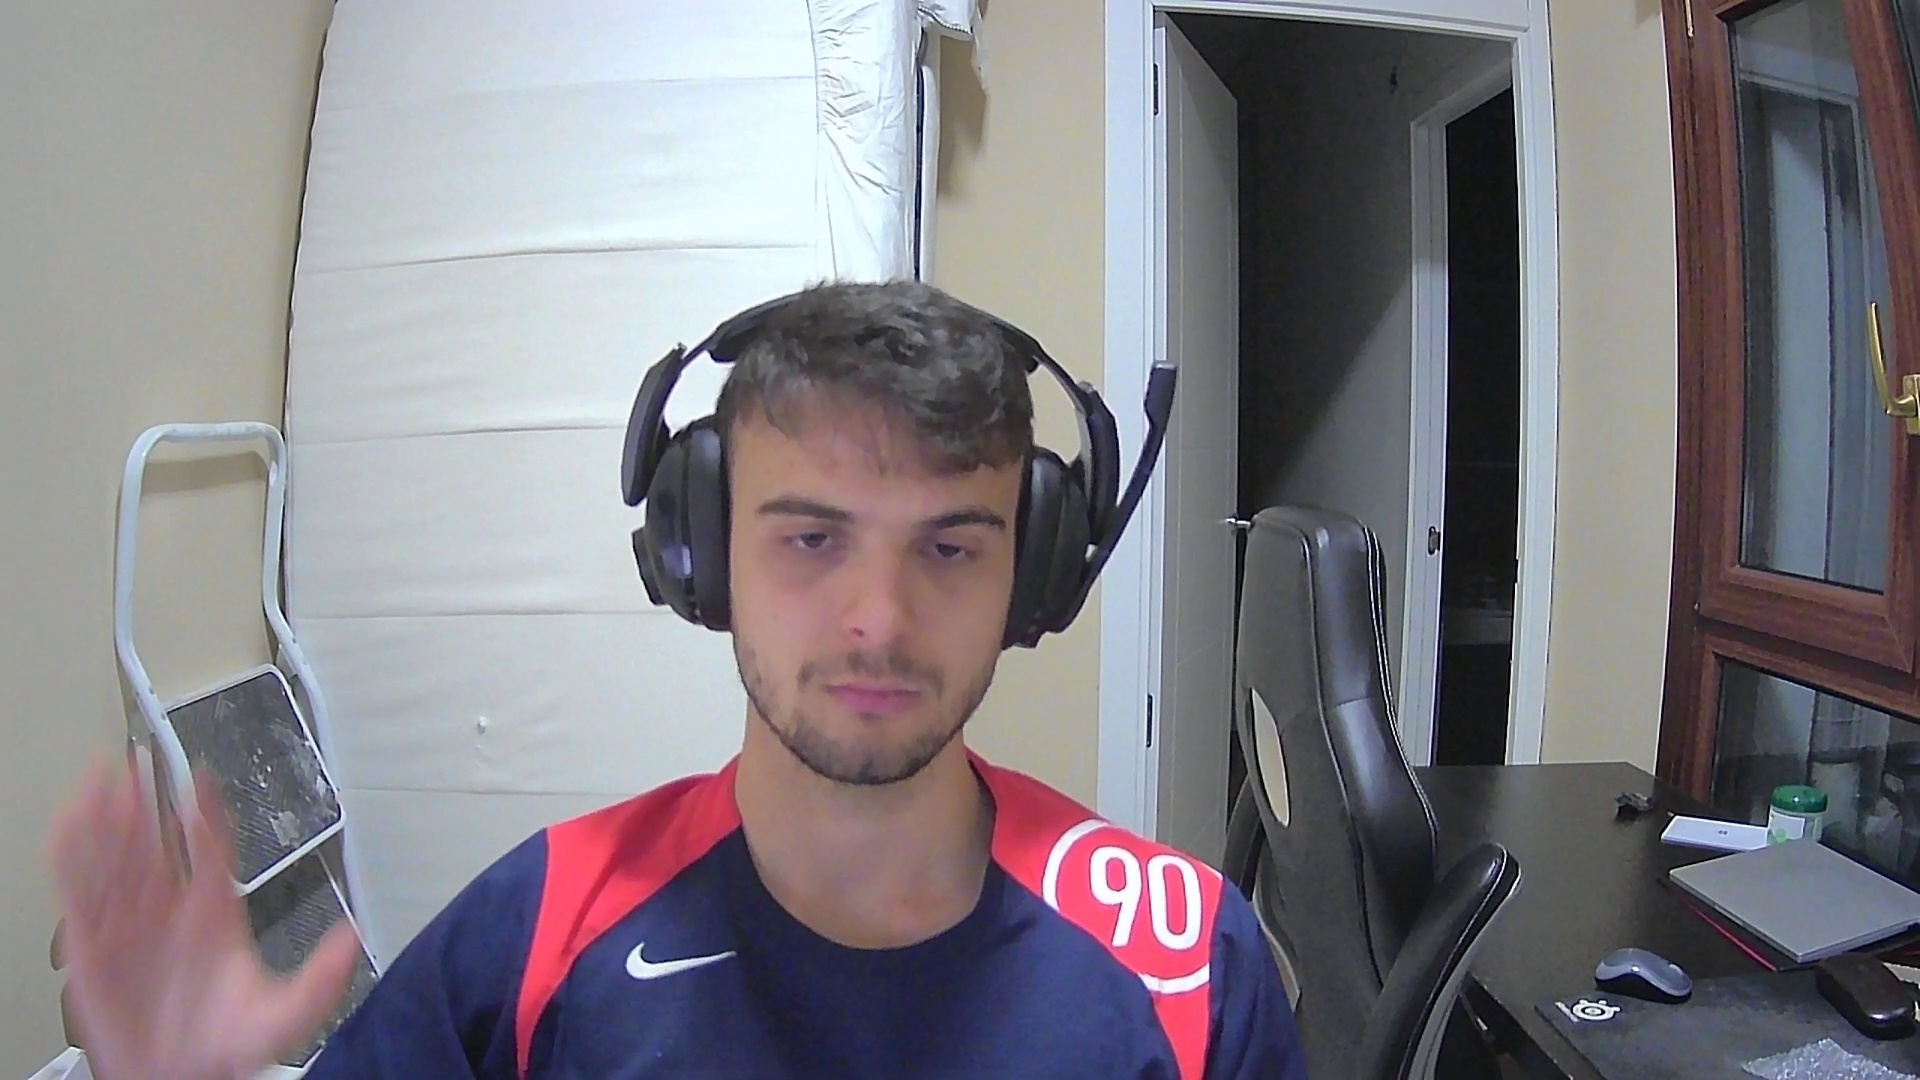Palm: (38, 748, 371, 1077)
